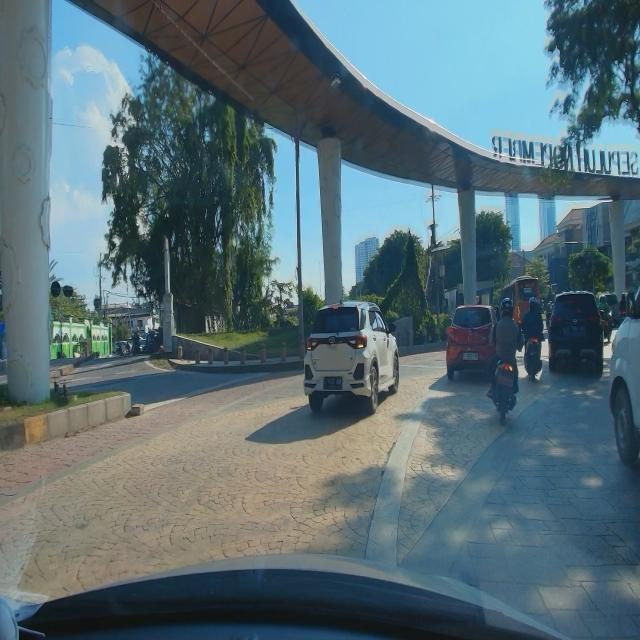car: (302, 299, 399, 416), (547, 289, 607, 375), (446, 299, 499, 382)
license-plate: (323, 377, 342, 389), (462, 352, 478, 361)
